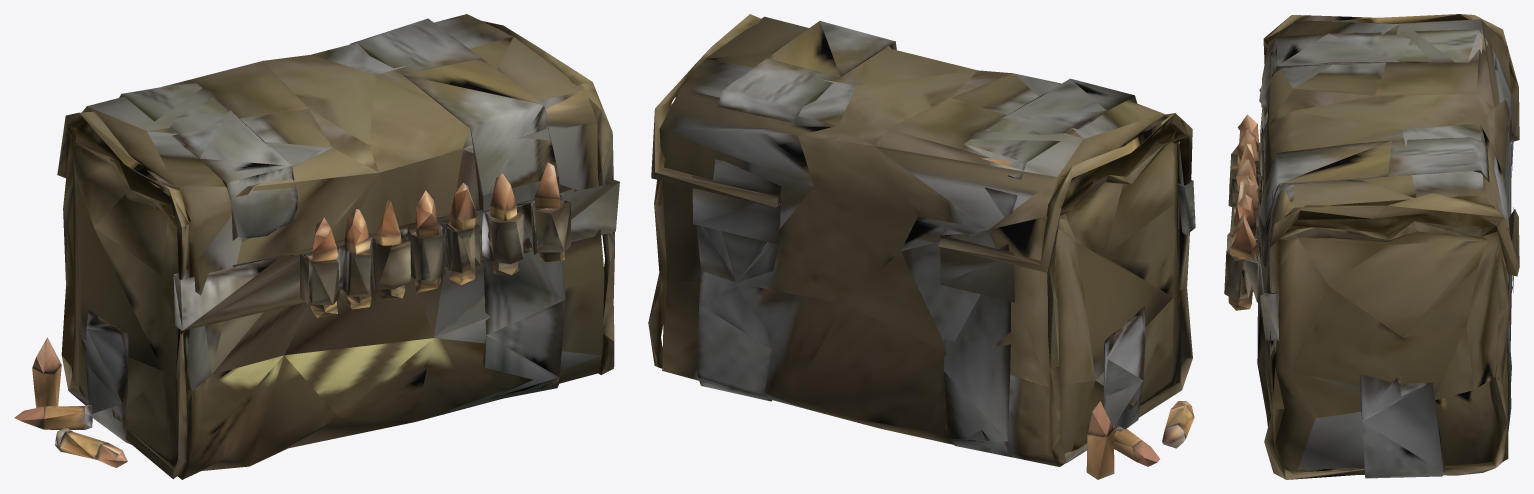
The model's file is ZR_Ammo_9mm.fbx.
3 renders of one model, left to right at view 1: azimuth 30°, elevation 25°; view 2: azimuth 150°, elevation 25°; view 3: azimuth 270°, elevation 25°, orthographic. The views are drawn at different scales.
Parts seen in each view (by area): view 1: ZR_Ammo_9mm; view 2: ZR_Ammo_9mm; view 3: ZR_Ammo_9mm.
Boxes of the visible parts, x1,y1,x2,y2 form: ZR_Ammo_9mm: (14, 14, 619, 479); ZR_Ammo_9mm: (648, 14, 1195, 479); ZR_Ammo_9mm: (1224, 14, 1519, 479).
Size of the model in its own units: 0.1998 by 0.113 by 0.1081.
Materials: 1 (1 with a texture image).
